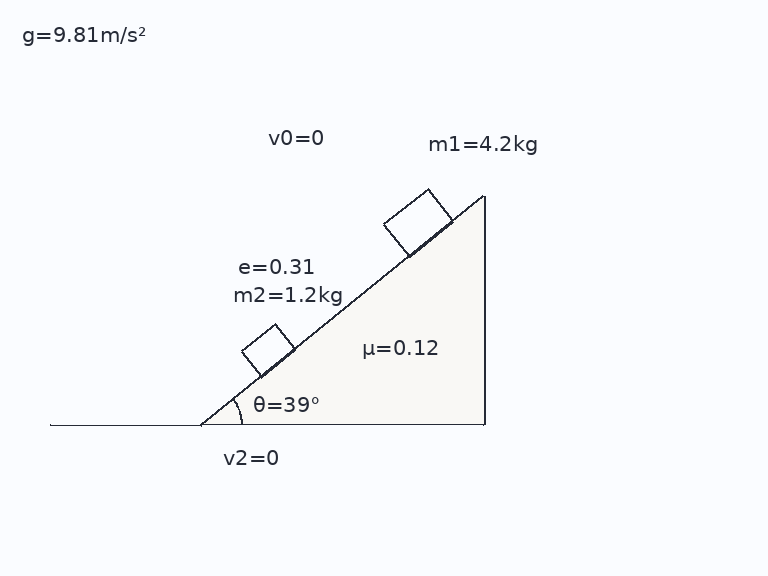block: (382, 187, 455, 258), (239, 321, 297, 378)
ramp: (200, 194, 485, 426)
